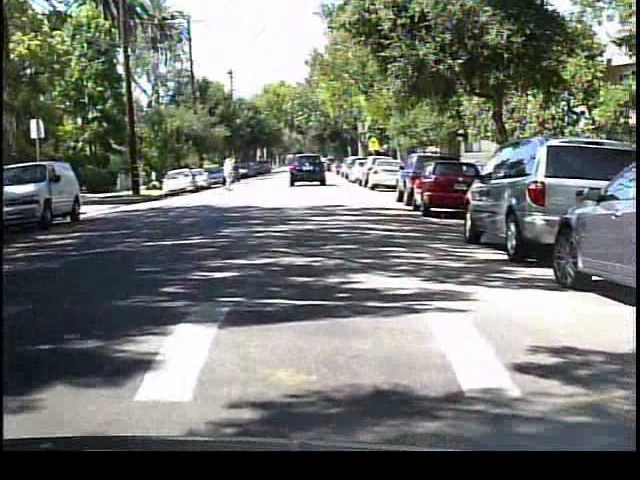person: (219, 152, 240, 194)
